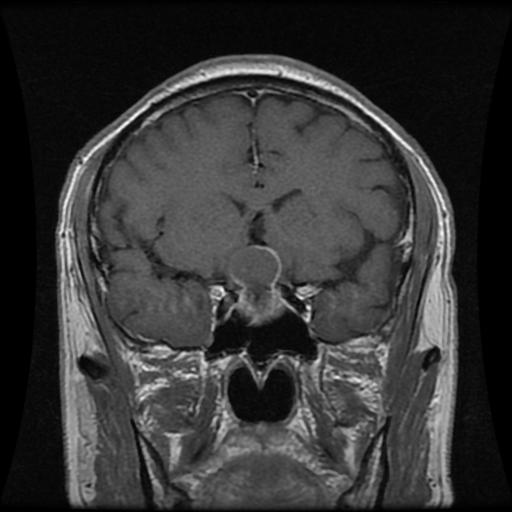Pituirity_tumour: (220, 243, 285, 324)
